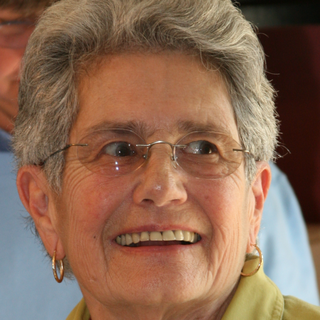eye: (176, 136, 229, 166), (88, 138, 142, 164)
